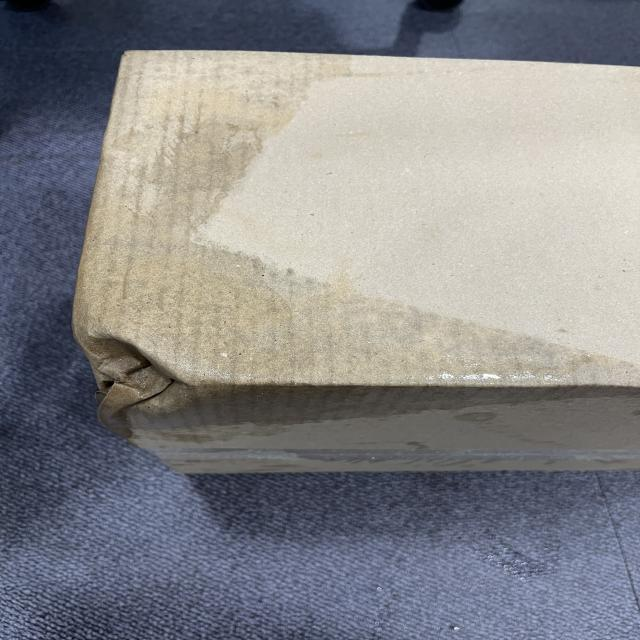wet: (83, 52, 640, 439)
